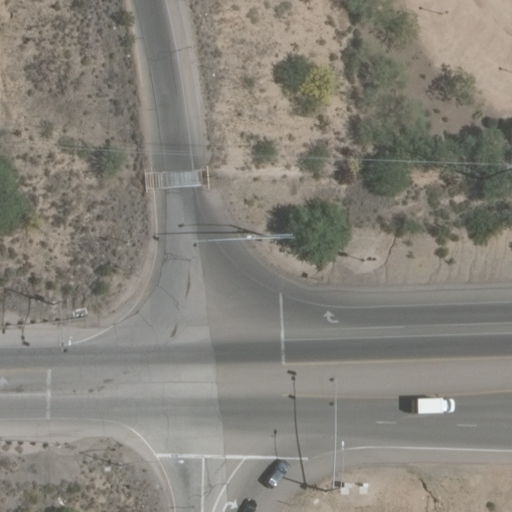DT: (475, 156, 512, 186)
